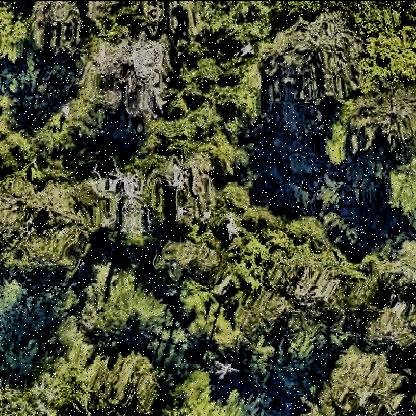tree-top: (266, 7, 366, 106), (3, 174, 90, 271), (85, 36, 173, 119), (311, 345, 403, 416), (257, 273, 336, 346), (81, 348, 160, 416), (96, 281, 170, 349), (352, 81, 416, 155), (152, 154, 218, 222), (94, 167, 152, 235), (193, 1, 263, 55), (22, 2, 82, 64), (43, 101, 113, 153), (154, 237, 226, 284), (363, 23, 416, 85), (168, 359, 224, 416), (365, 294, 416, 348), (374, 234, 416, 291), (384, 160, 416, 220), (2, 1, 32, 59)
